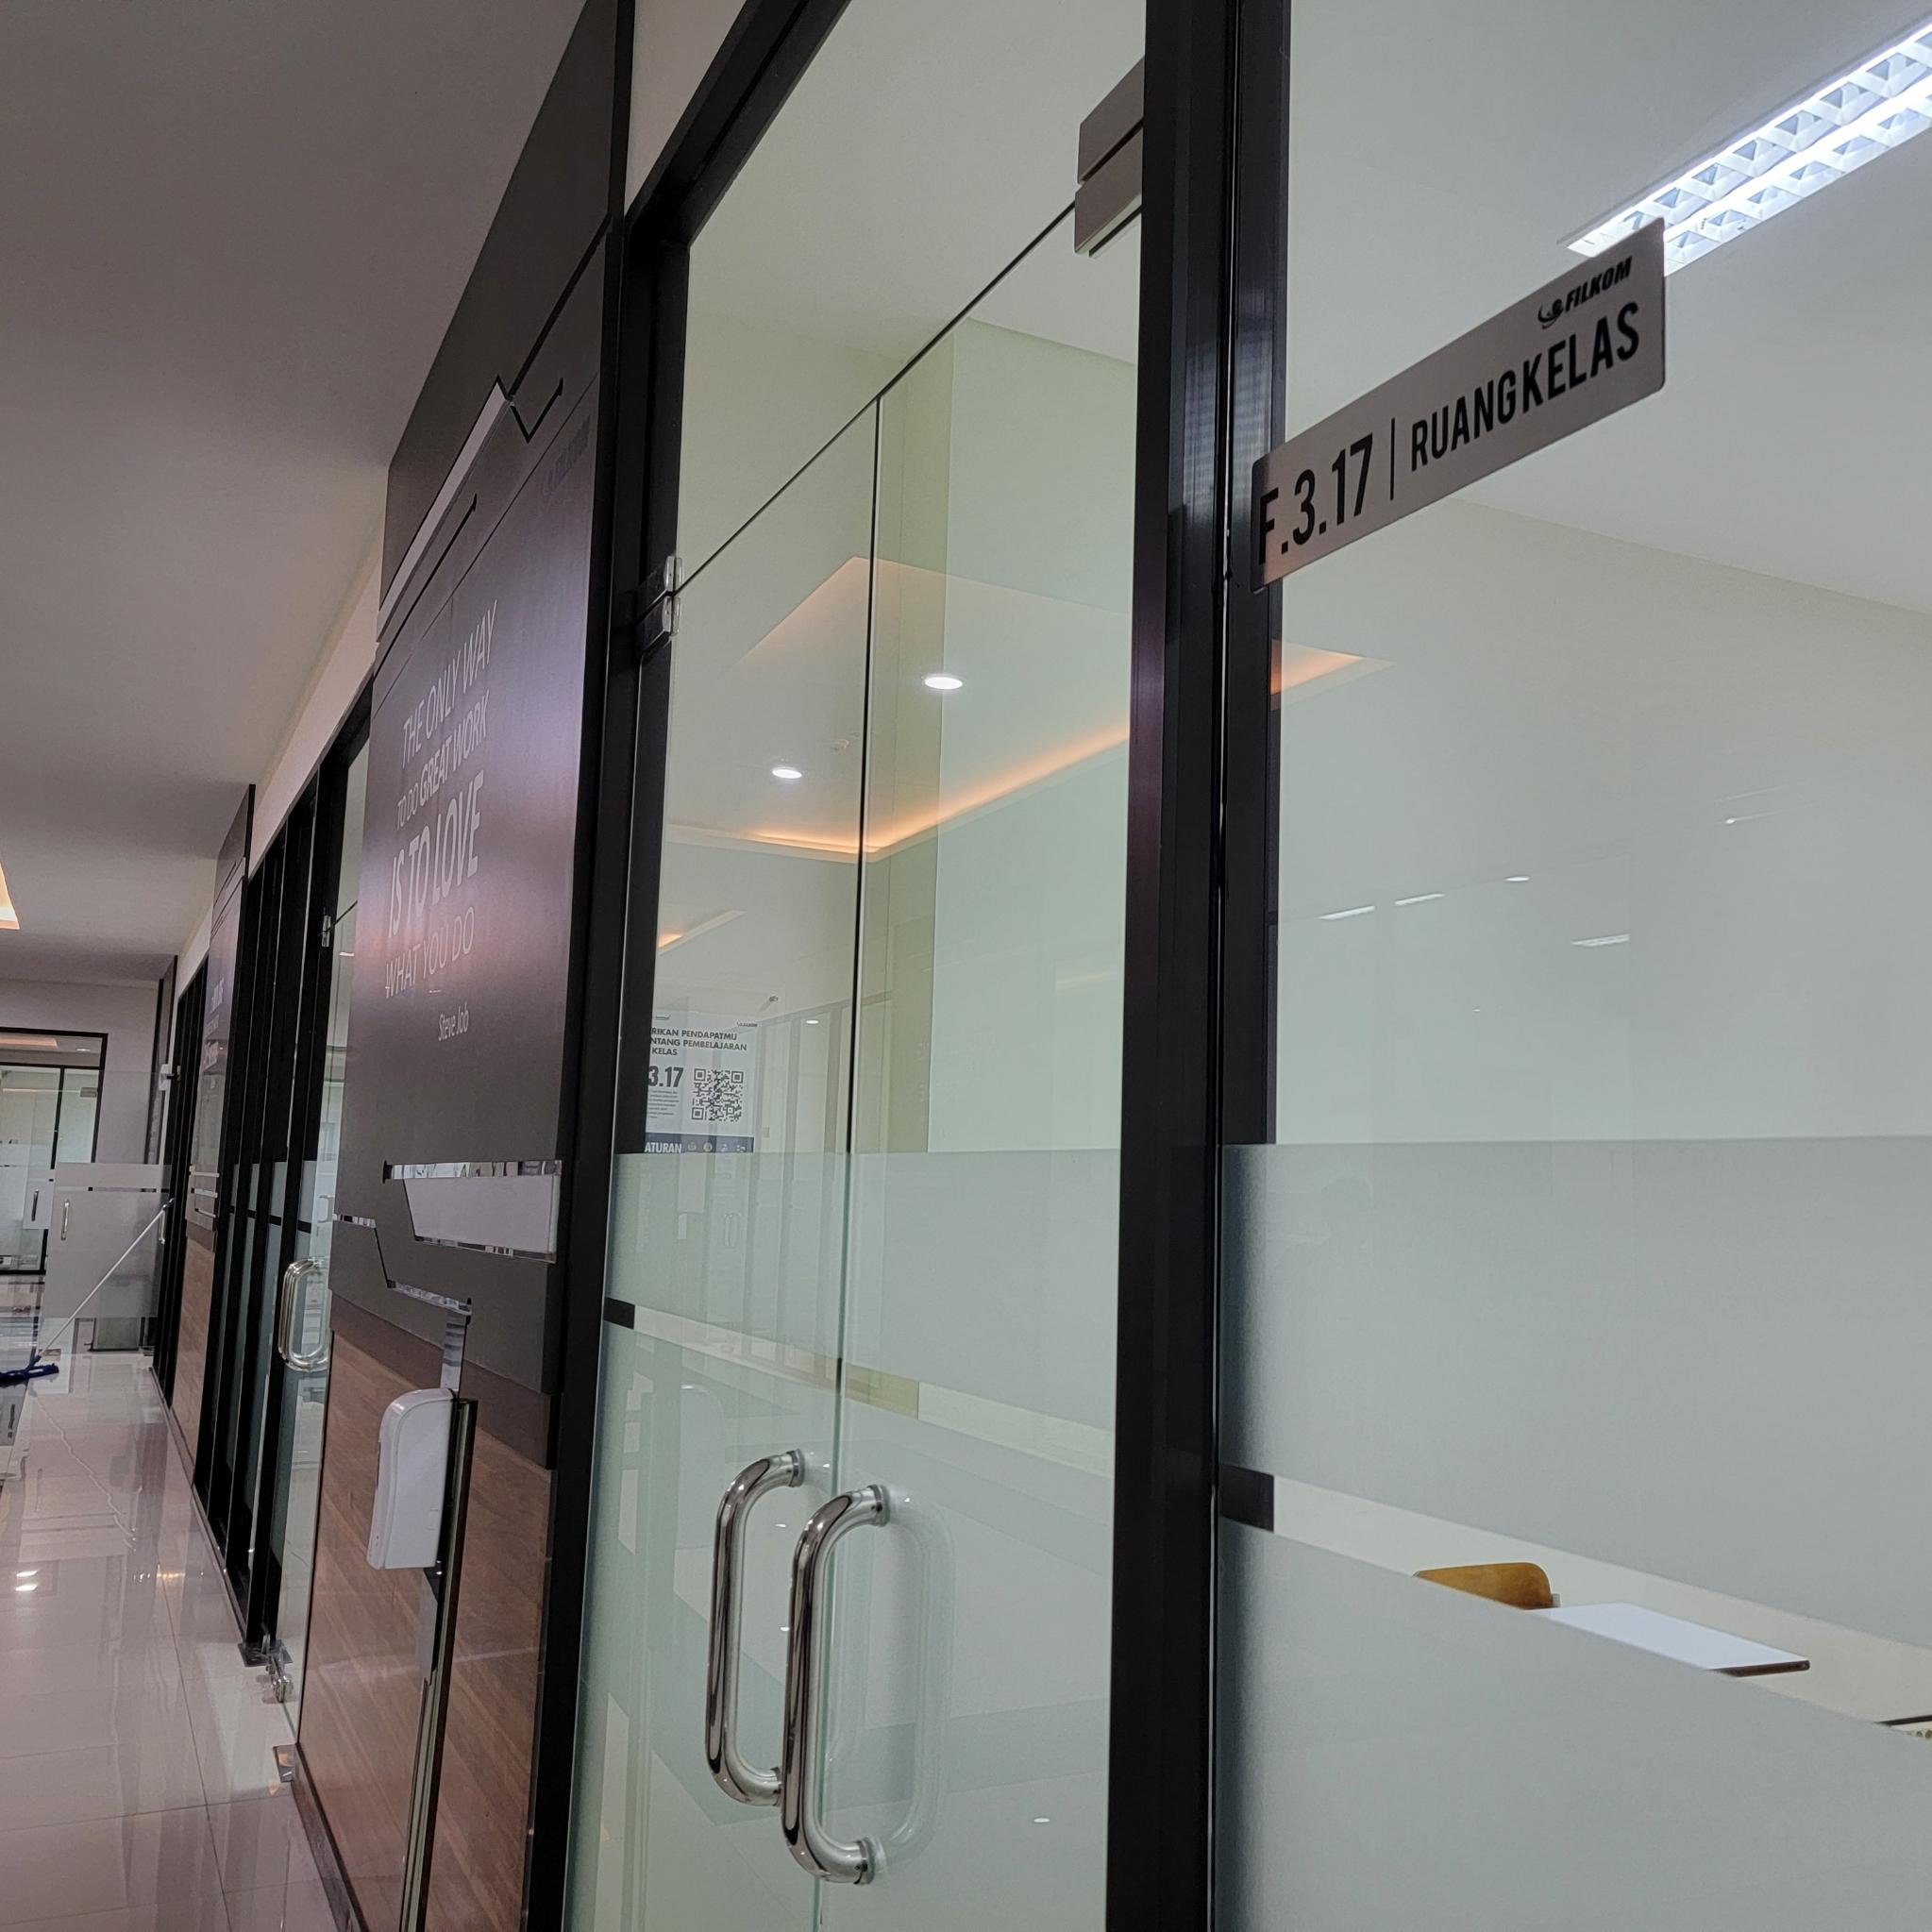plate: (1253, 218, 1668, 593)
